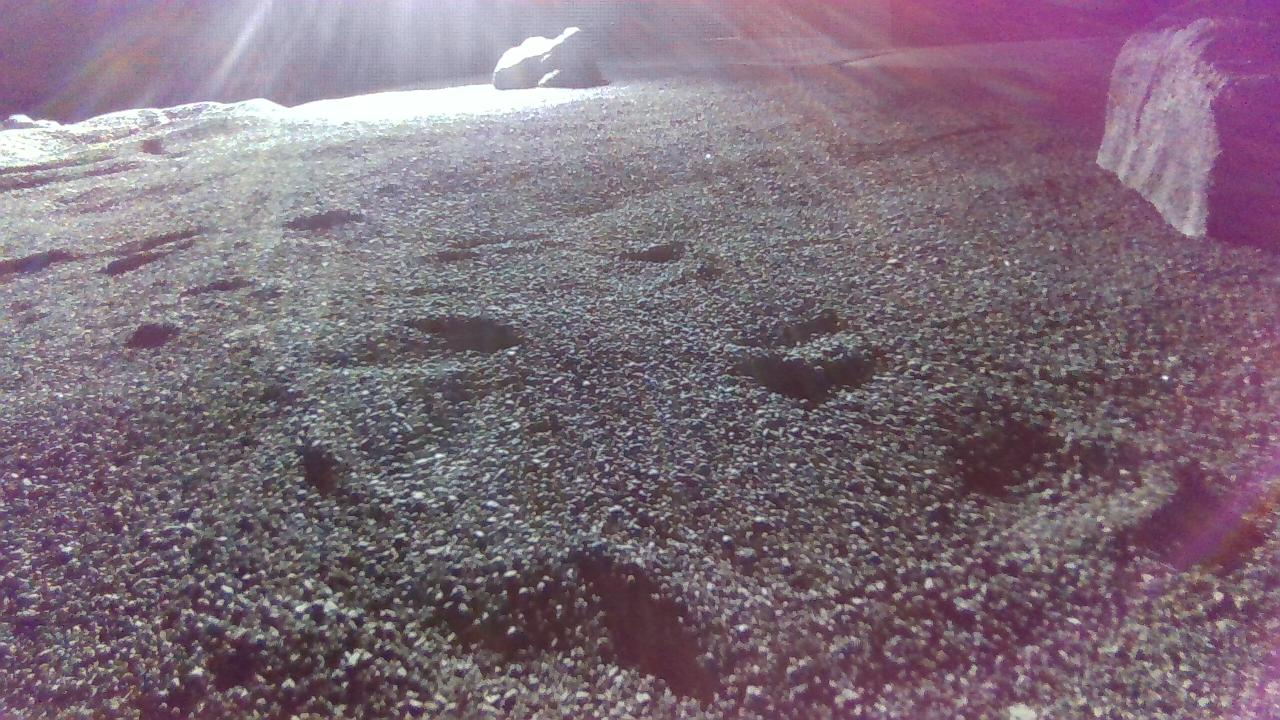rock: (1100, 2, 1280, 250)
